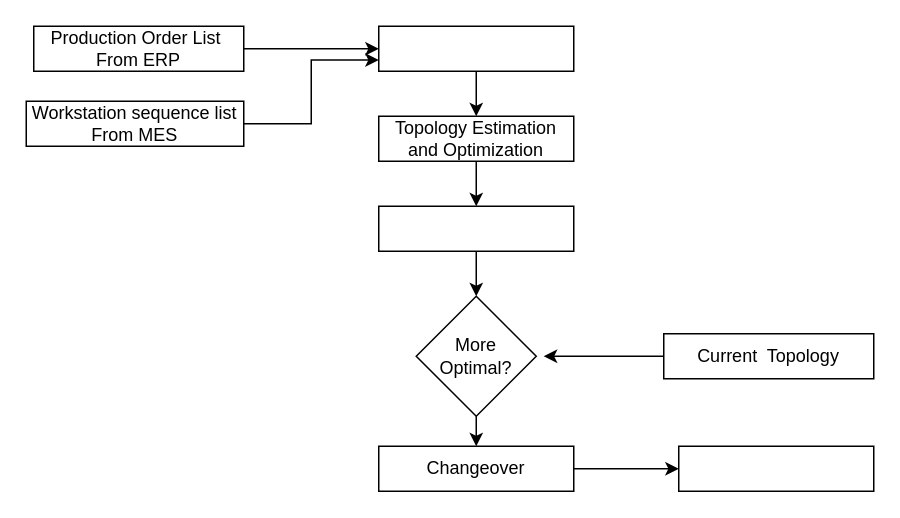
This 900x518 diagram has some shape labels left out. Each missing label, with the centre of its shape:
"Compounded Batch Order" belongs at (x=475, y=48).
"New Topology" belongs at (x=475, y=228).
"Production" belongs at (x=775, y=468).
